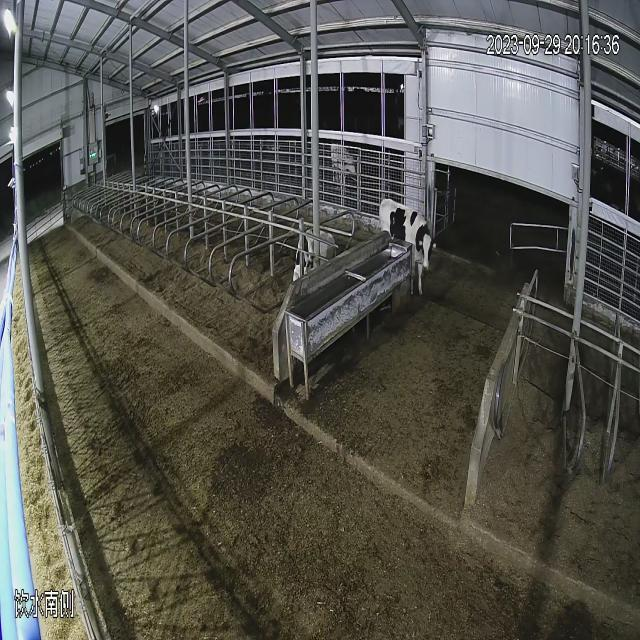lying down: (290, 210, 338, 290)
standing: (376, 185, 448, 298)
